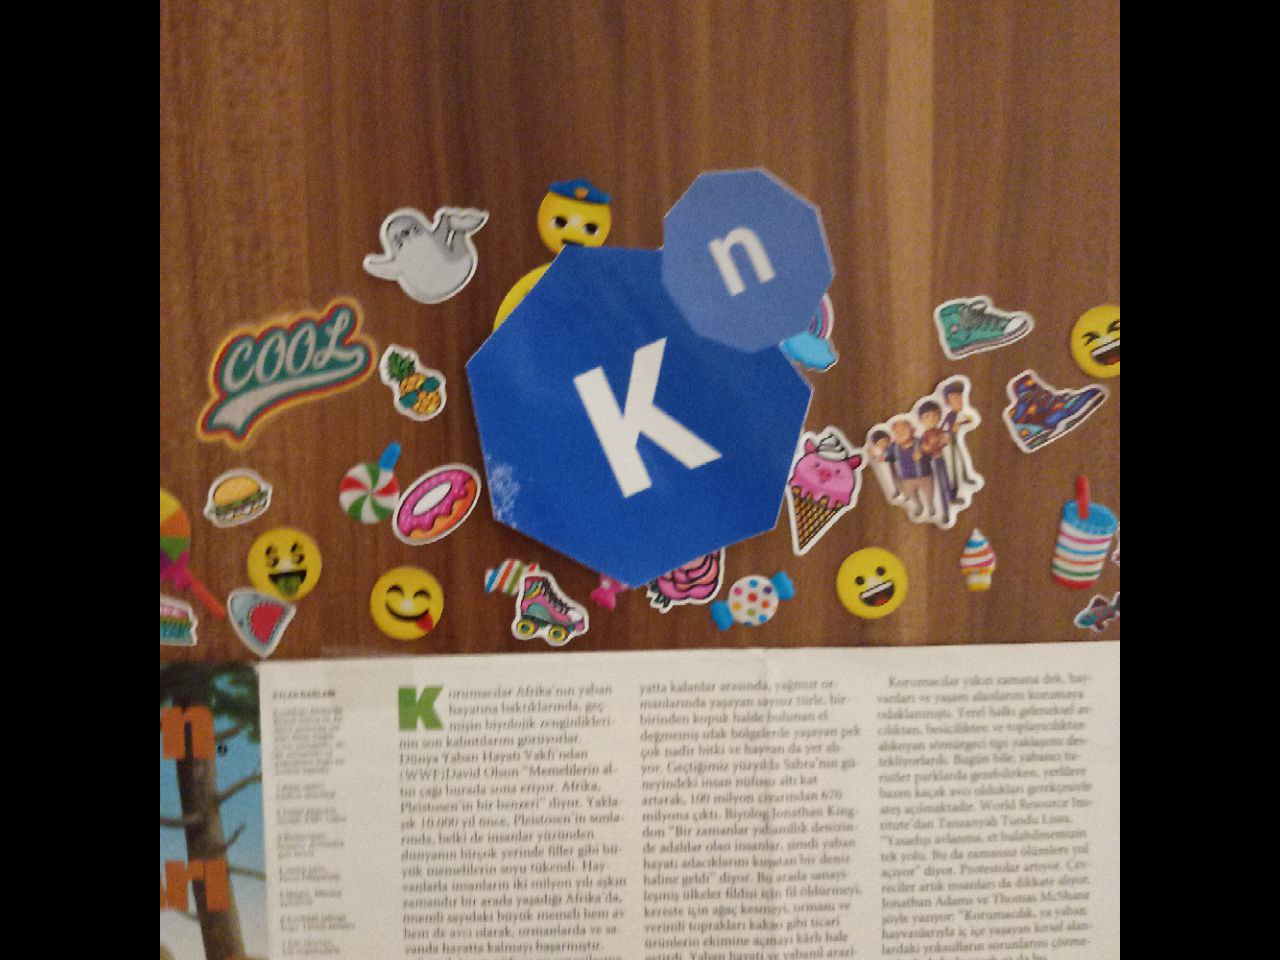knative: (466, 168, 836, 586)
